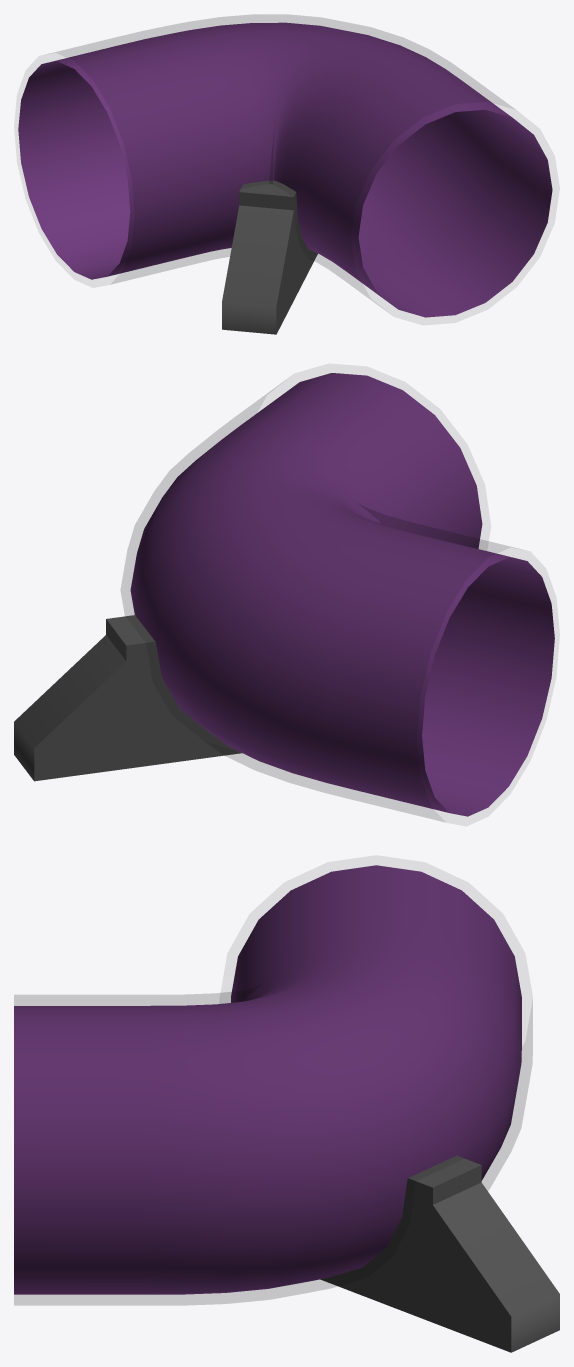
Rendered from Pipe_Turn.fbx.
The picture shows the model from 3 angles, top to bottom: view 1: azimuth 30°, elevation 25°; view 2: azimuth 150°, elevation 25°; view 3: azimuth 270°, elevation 25°; orthographic projection. The views are drawn at different scales.
Visible parts, largest first — view 1: Pipe_Turn; view 2: Pipe_Turn; view 3: Pipe_Turn.
Boxes of the visible parts, x1,y1,x2,y2 form: Pipe_Turn: (18, 15, 552, 334); Pipe_Turn: (14, 373, 554, 821); Pipe_Turn: (14, 865, 559, 1352).
Size of the model in its own units: 0.7204 by 0.4323 by 0.7533.
